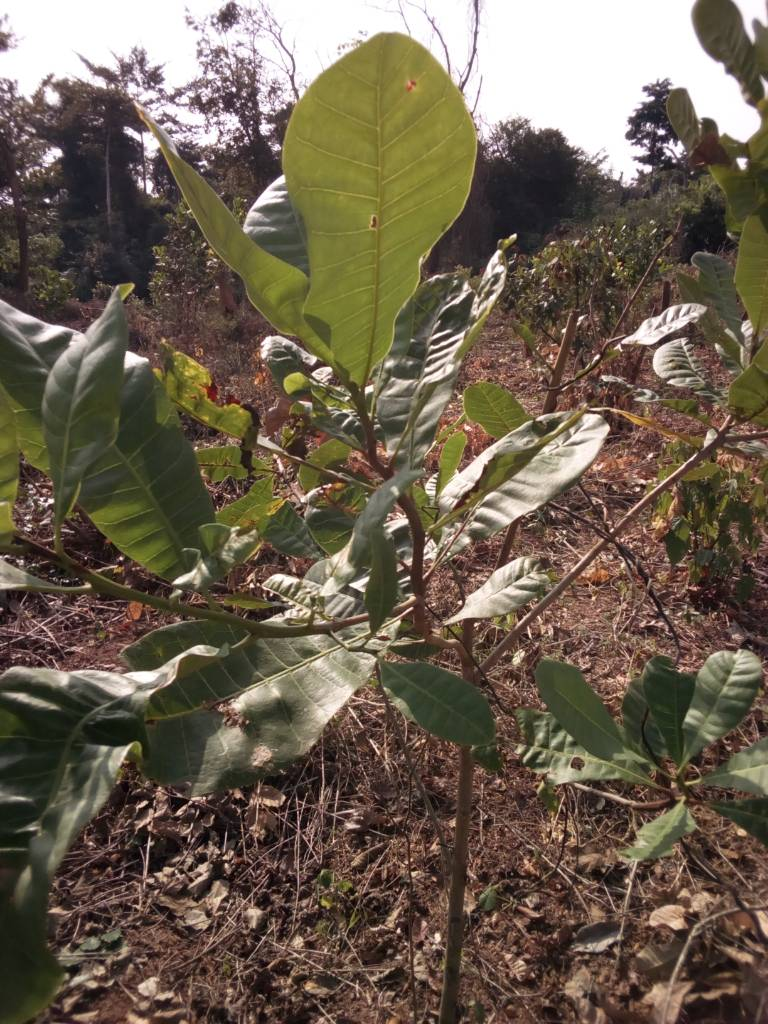Pestalotiose: (321, 35, 452, 358)
